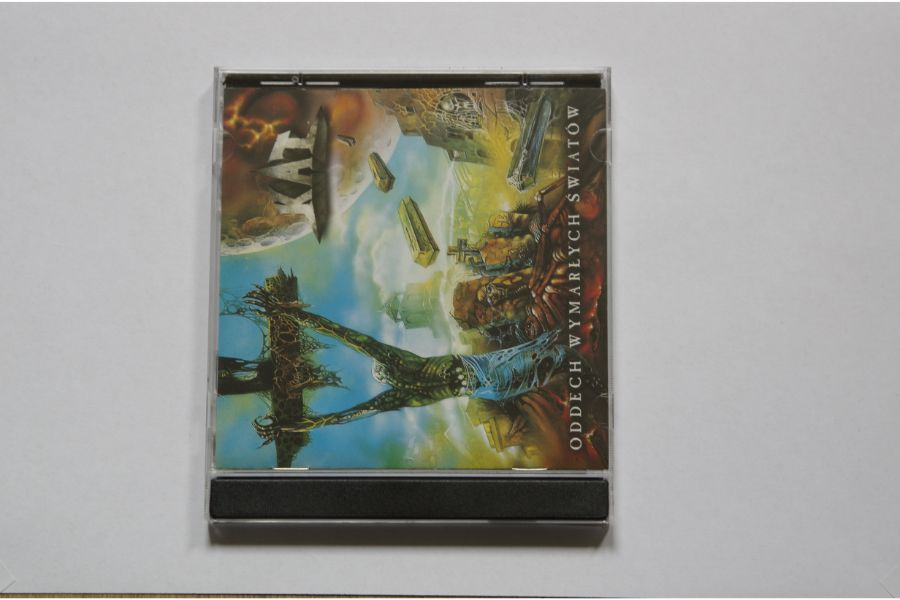album: (202, 65, 614, 530)
